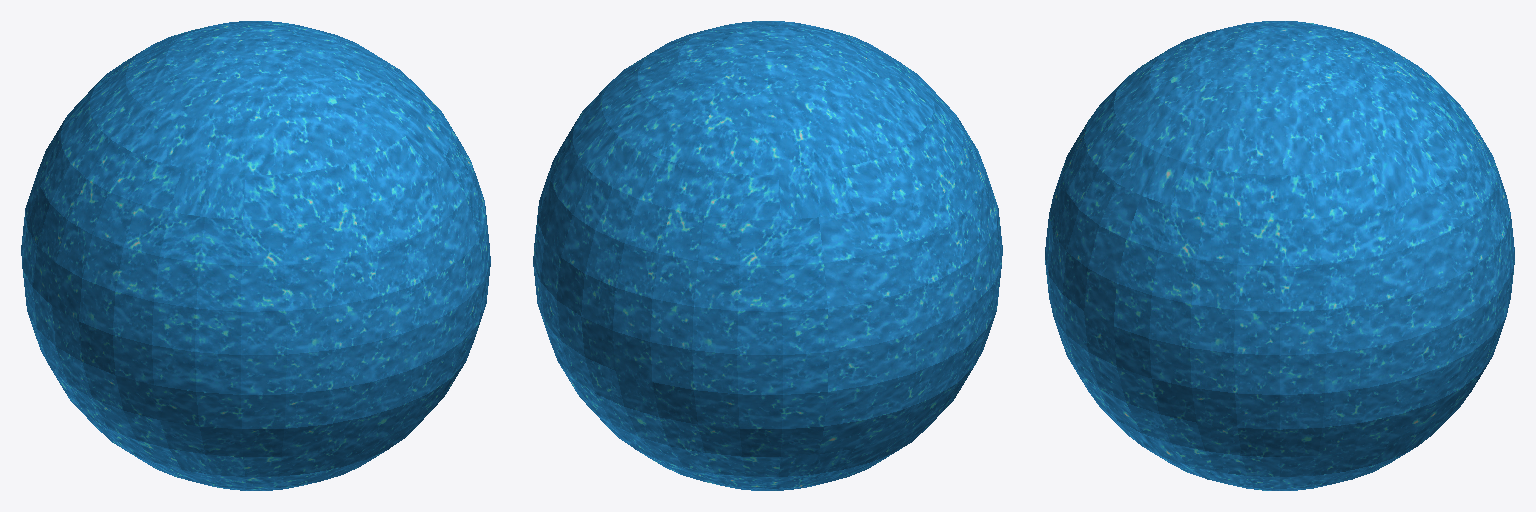
The picture shows the model from 3 angles: view 1: azimuth 30°, elevation 25°; view 2: azimuth 150°, elevation 25°; view 3: azimuth 270°, elevation 25°; orthographic projection.
Visible parts, largest first — view 1: water_particle; view 2: water_particle; view 3: water_particle.
Part boxes in pixels (x1,y1,x2,y2): water_particle: (21, 21, 490, 490); water_particle: (533, 21, 1002, 490); water_particle: (1045, 21, 1514, 490).
Bounding box in the file's own units: 2 × 2 × 2.
1 materials, 1 textured.